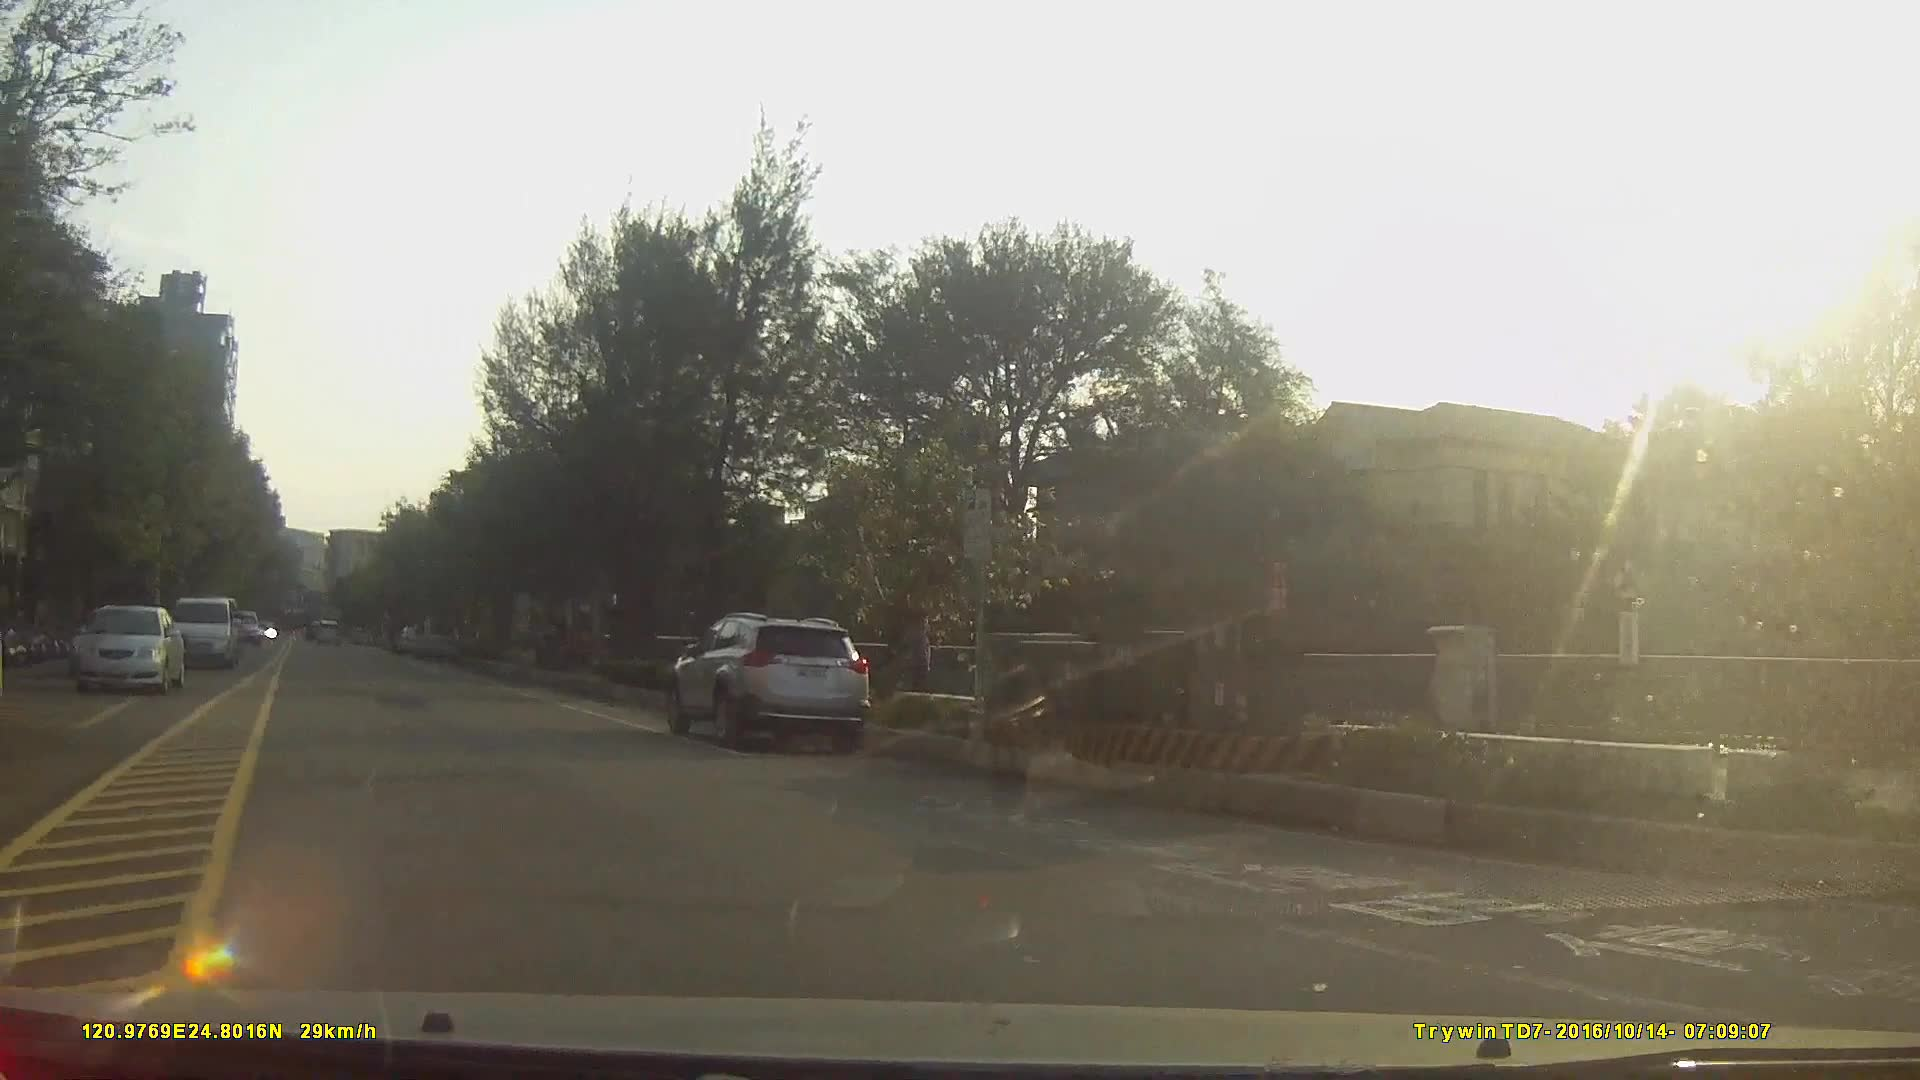vehicle: (669, 611, 872, 756), (73, 603, 185, 694), (171, 597, 239, 669), (410, 613, 460, 661), (222, 608, 262, 647)
